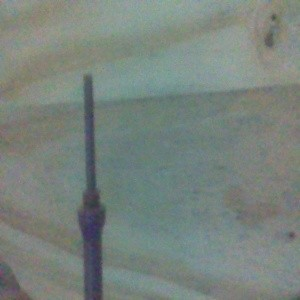obeng: (76, 72, 107, 300)
